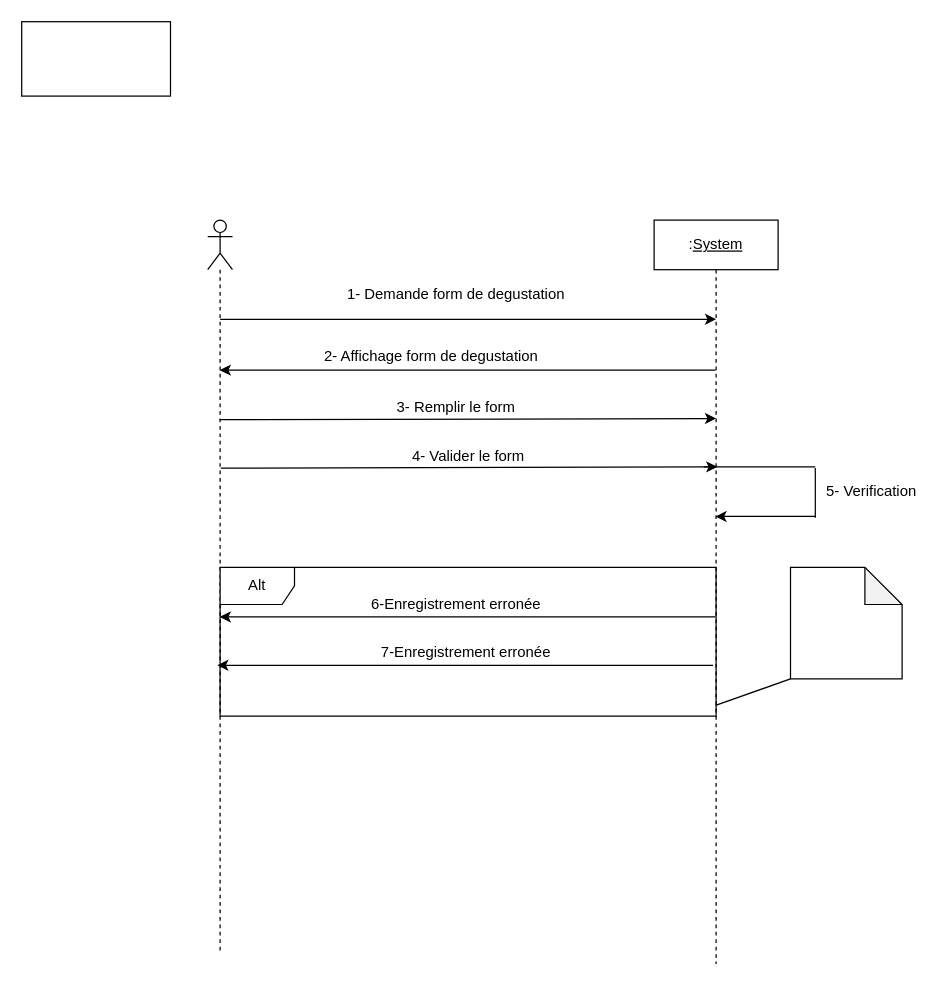
Some shapes in this 949 by 986 pixel diagram are drawn without their labels. The centre of each missing label's shape, as x and y in pixels:
"DS Degustation" goes at (x=95, y=58).
"Enregistrement erronée" goes at (x=845, y=622).
